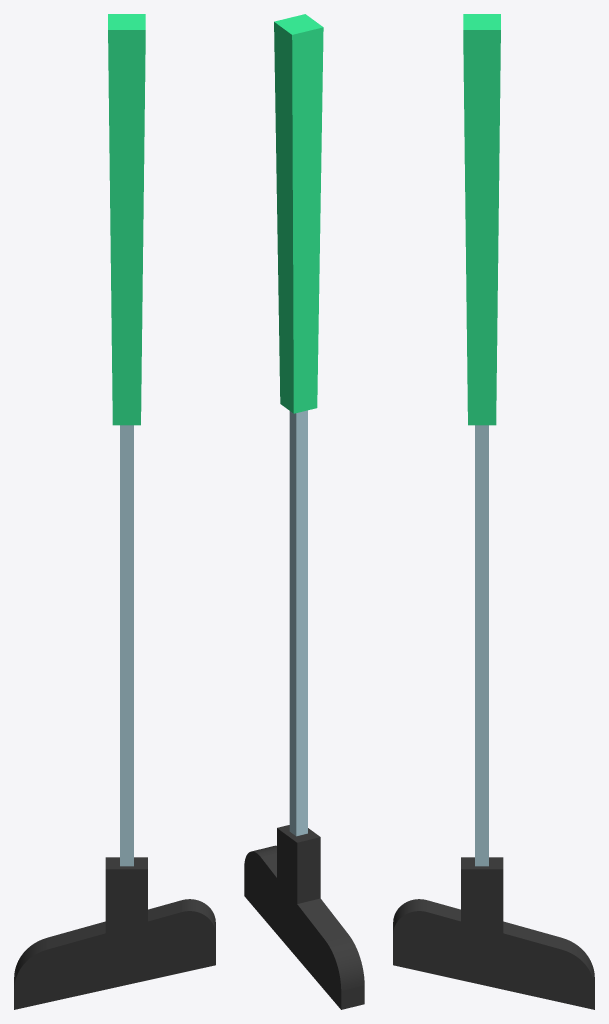
Rendered from club_green.fbx.
3 renders of one model, left to right at view 1: azimuth 90°, elevation 25°; view 2: azimuth 210°, elevation 25°; view 3: azimuth 270°, elevation 25°, orthographic. The views are drawn at different scales.
Parts seen in each view (by area): view 1: club_green; view 2: club_green; view 3: club_green.
Boxes of the visible parts, bbox=[...] form: club_green: bbox=[14, 14, 215, 1009]; club_green: bbox=[244, 14, 364, 1009]; club_green: bbox=[393, 14, 594, 1009].
Size of the model in its own units: 0.3453 by 9.9 by 1.84.
